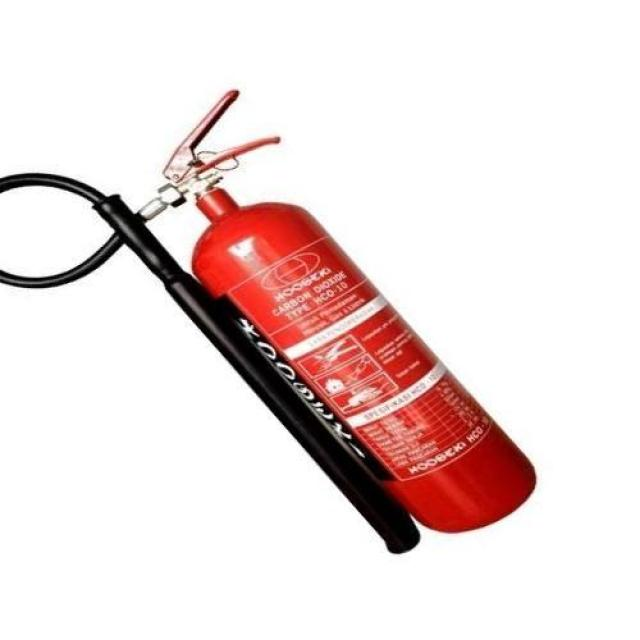fire_extinguisher: (0, 81, 540, 559)
